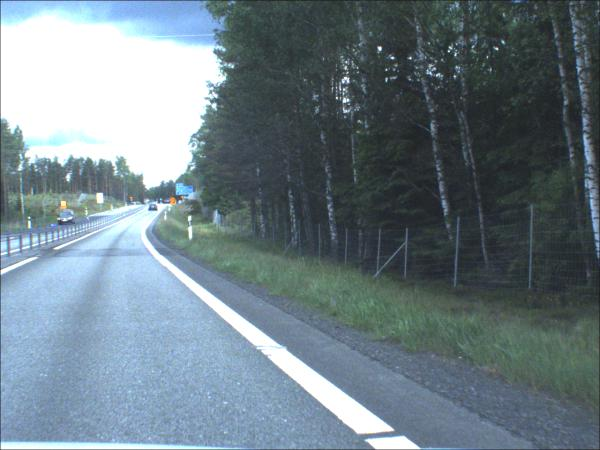70_SIGN: (172, 198, 178, 205), (62, 202, 68, 208), (131, 197, 134, 201), (182, 197, 185, 200)
